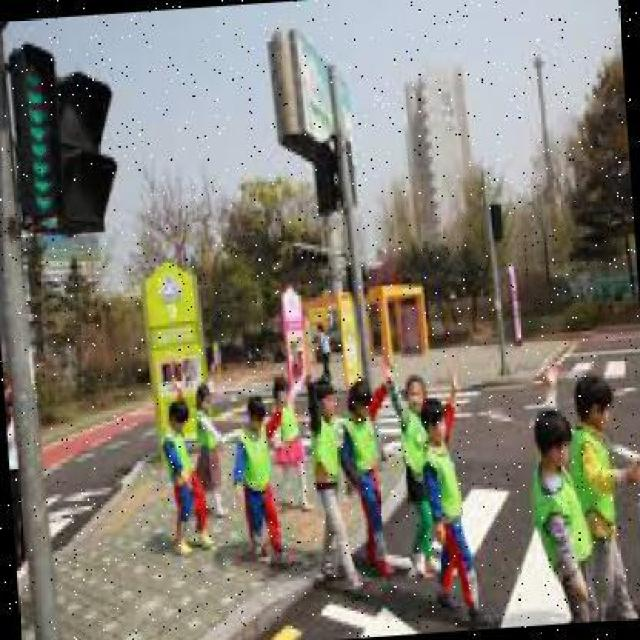Person: (566, 358, 639, 620), (414, 391, 494, 629), (528, 369, 602, 622), (296, 363, 370, 595), (381, 354, 442, 586), (339, 379, 399, 573), (226, 397, 288, 565), (157, 392, 214, 557), (269, 371, 316, 514), (191, 380, 235, 511)
